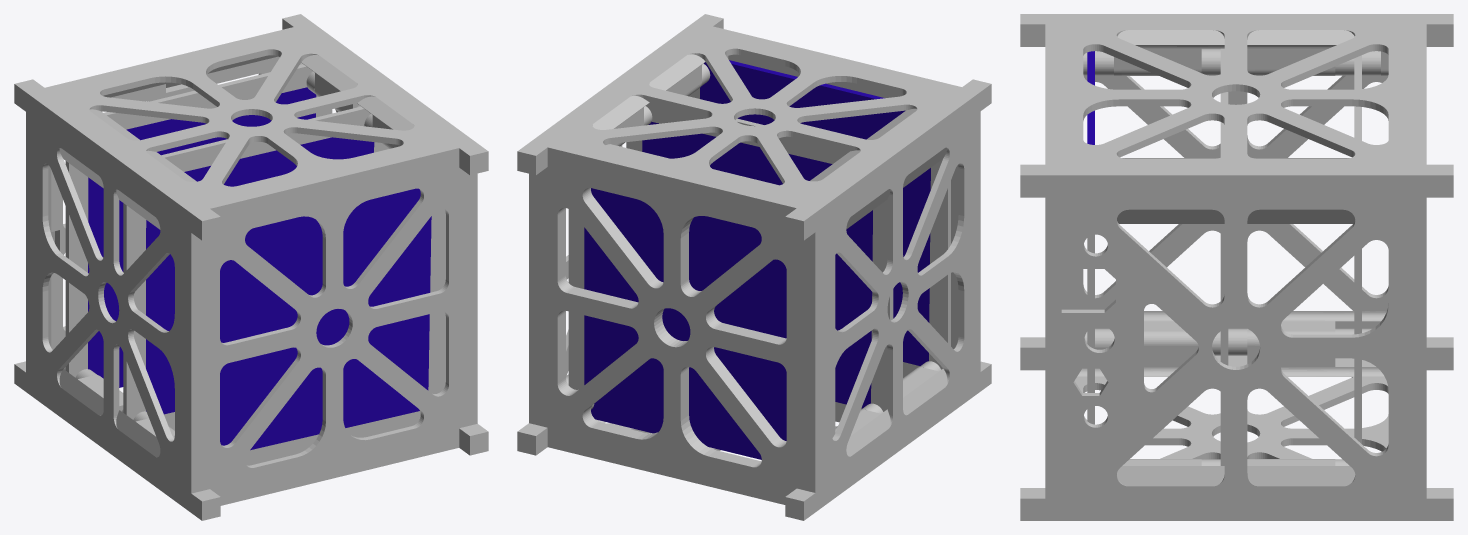
File: cubesat1.dae
3 views of the same model, side by side, from view 1: azimuth 30°, elevation 25°; view 2: azimuth 150°, elevation 25°; view 3: azimuth 270°, elevation 25° (orthographic). The views are drawn at different scales.
Parts seen in each view (by area): view 1: CubesatSTL; view 2: CubesatSTL; view 3: CubesatSTL.
Boxes of the visible parts, x1,y1,x2,y2 form: CubesatSTL: (14, 14, 488, 520); CubesatSTL: (517, 14, 991, 520); CubesatSTL: (1020, 14, 1453, 520).
Bounding box in the file's own units: 1 × 1.14 × 1.
